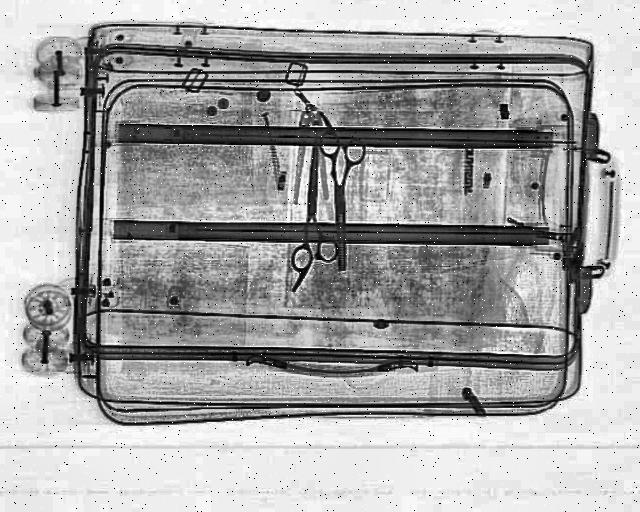Scissors: (317, 132, 369, 272), (292, 144, 341, 274)
